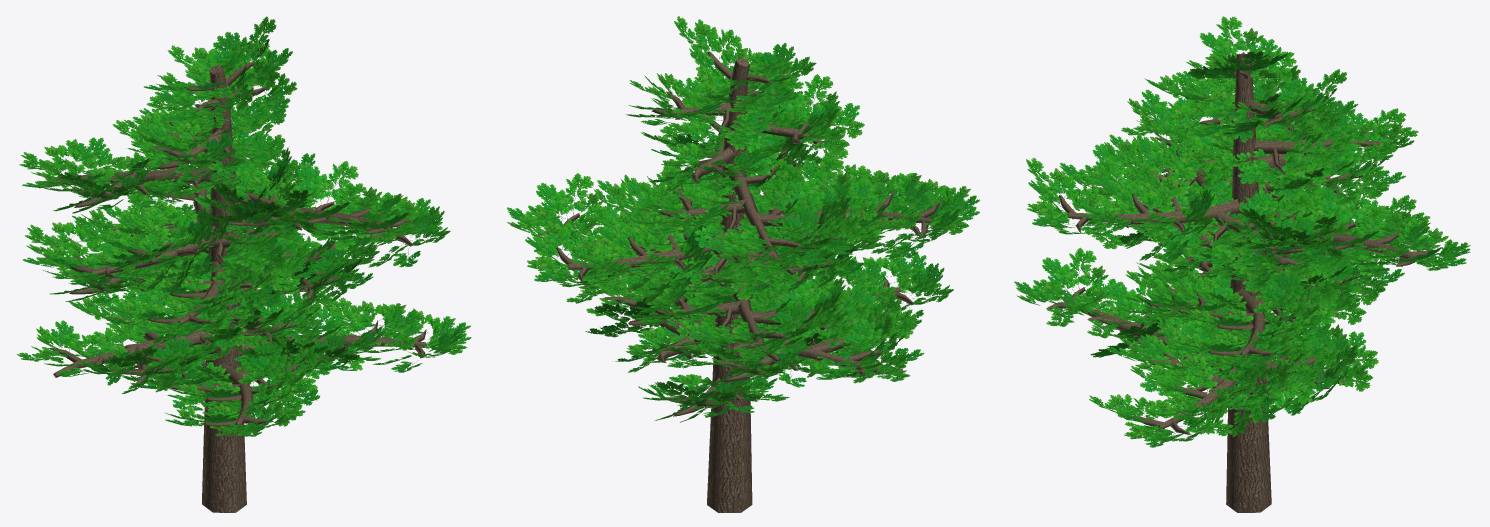
Rendered from Tree.fbx.
The picture shows the model from 3 angles, left to right: view 1: azimuth 30°, elevation 25°; view 2: azimuth 150°, elevation 25°; view 3: azimuth 270°, elevation 25°; orthographic projection.
Parts seen in each view (by area): view 1: Tree; view 2: Tree; view 3: Tree.
Part boxes in pixels (box(x1,y1,x2,y2)): Tree: box(17, 16, 471, 512); Tree: box(507, 16, 979, 512); Tree: box(1014, 16, 1470, 512).
Bounding box in the file's own units: 646 × 696 × 609.
